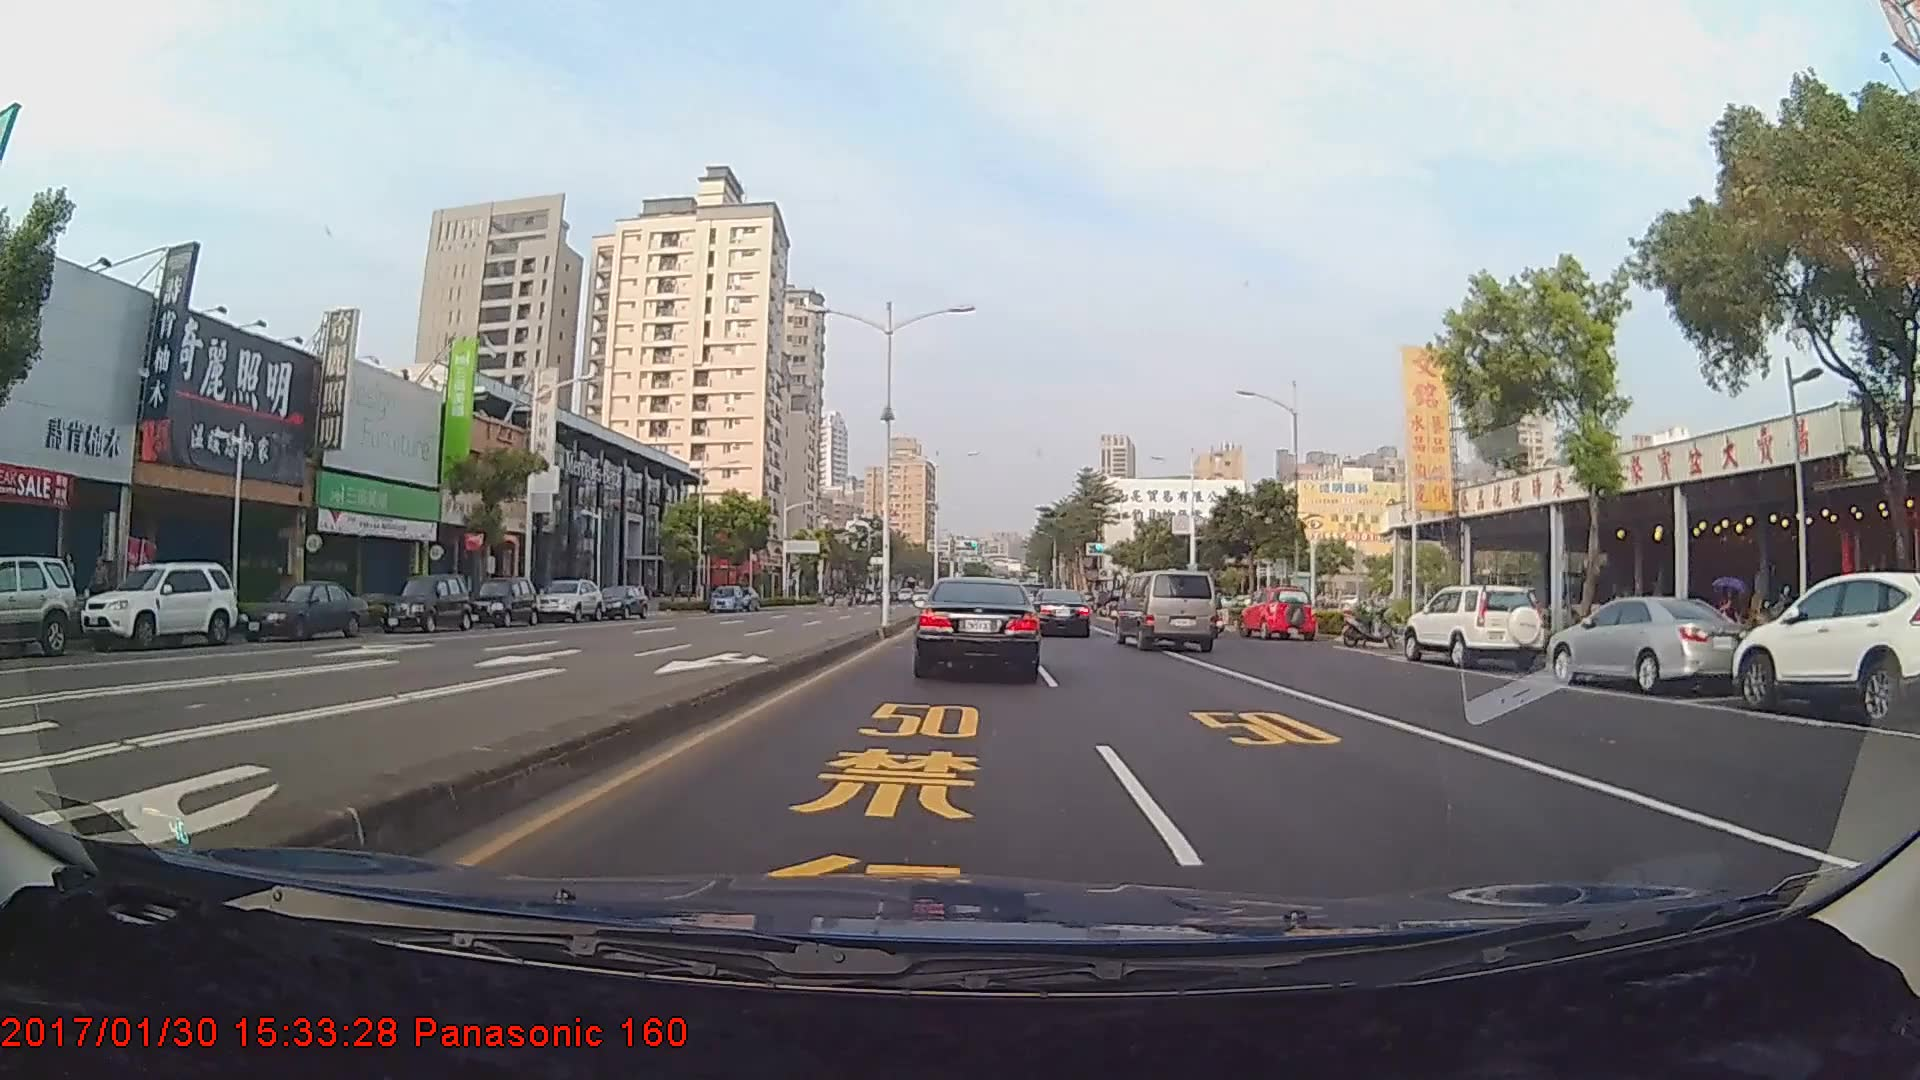vehicle: (1731, 570, 1920, 725), (1549, 589, 1742, 694), (79, 560, 237, 649), (915, 574, 1040, 680), (1399, 582, 1544, 666), (233, 578, 368, 642), (1113, 570, 1218, 651), (0, 553, 76, 655), (376, 571, 472, 632), (1240, 585, 1313, 641), (465, 578, 541, 630), (531, 578, 605, 624), (1029, 588, 1092, 637), (588, 584, 649, 618), (707, 583, 742, 612)
